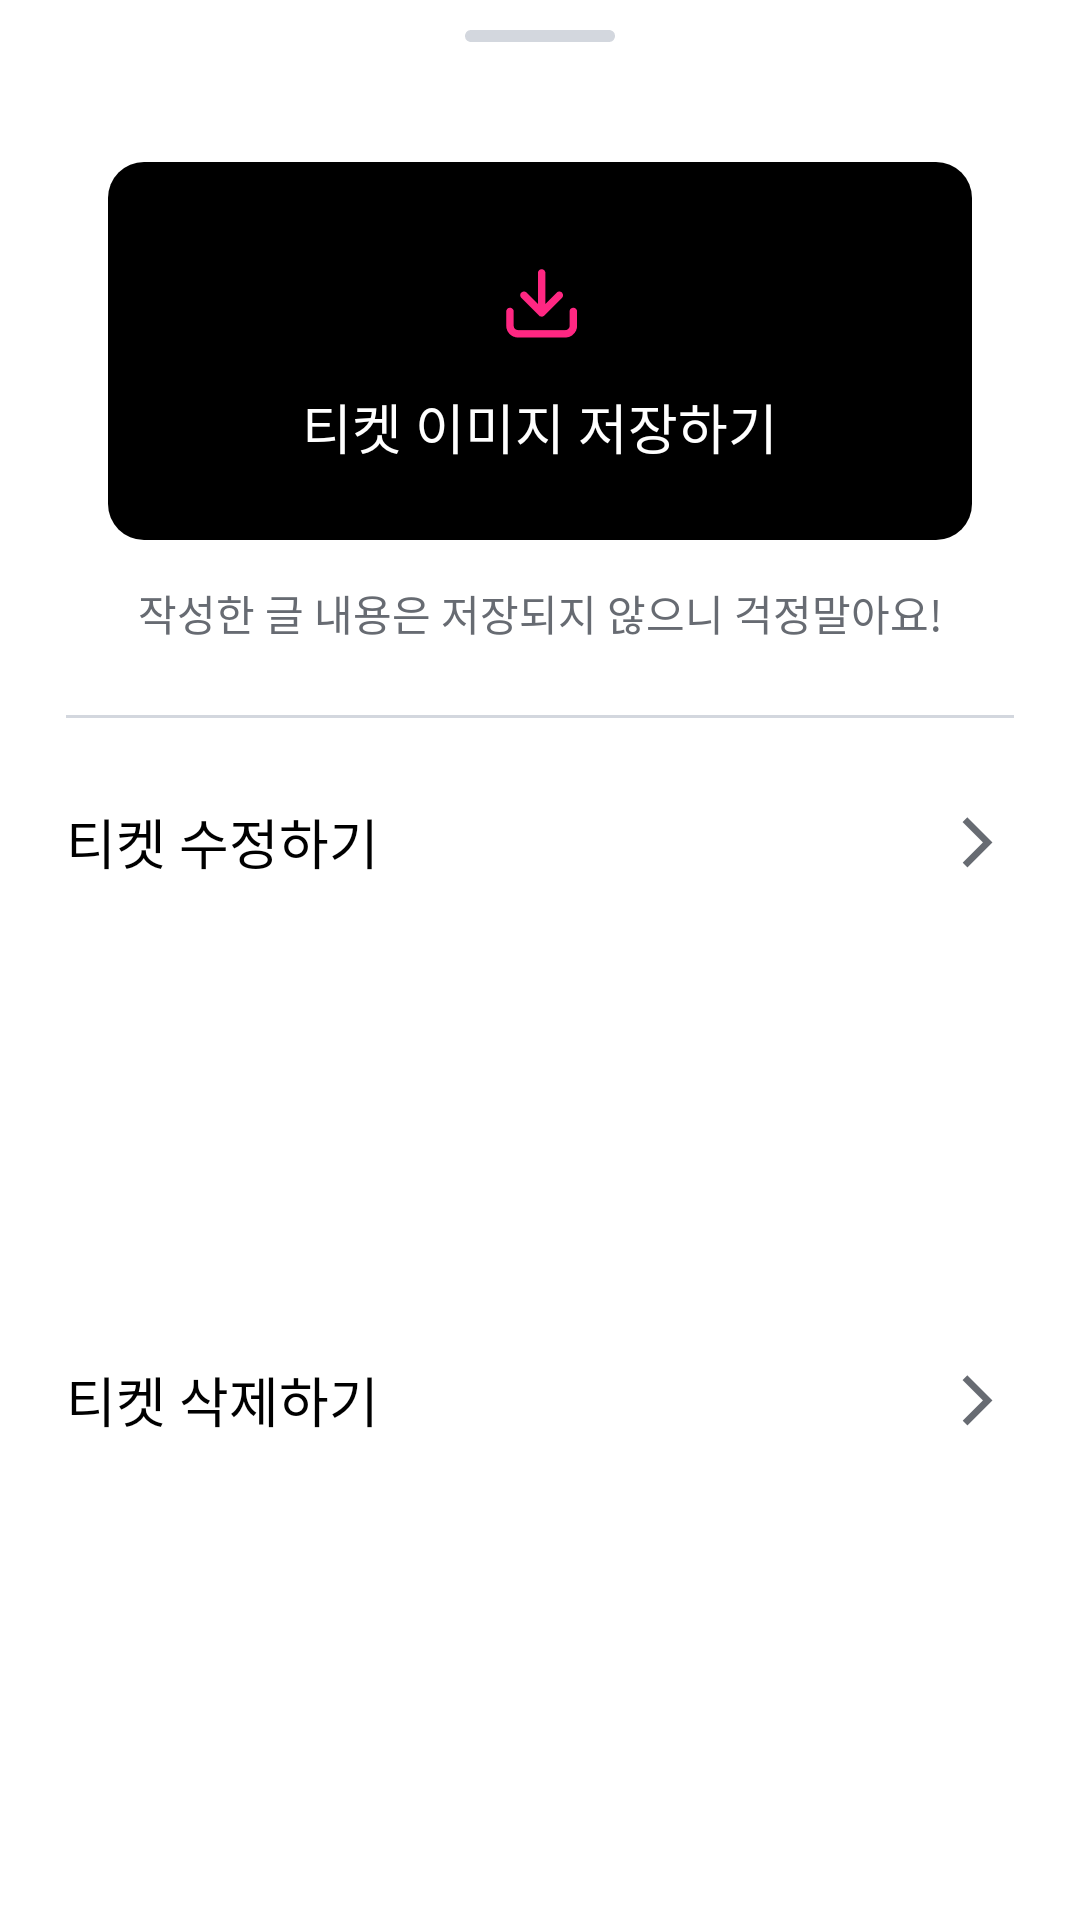

Locate icon controls on the screen. Image size 1080x1920, boxes as (x1, y1, x2, y2).
arrow righ midgrey: (963, 817, 993, 868), (963, 1375, 993, 1426)
download: (506, 269, 577, 338)
